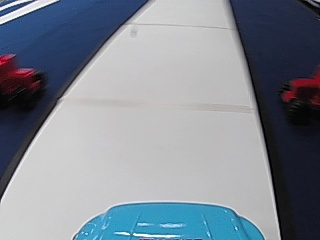tractor: (0, 51, 43, 109), (279, 63, 317, 125)
